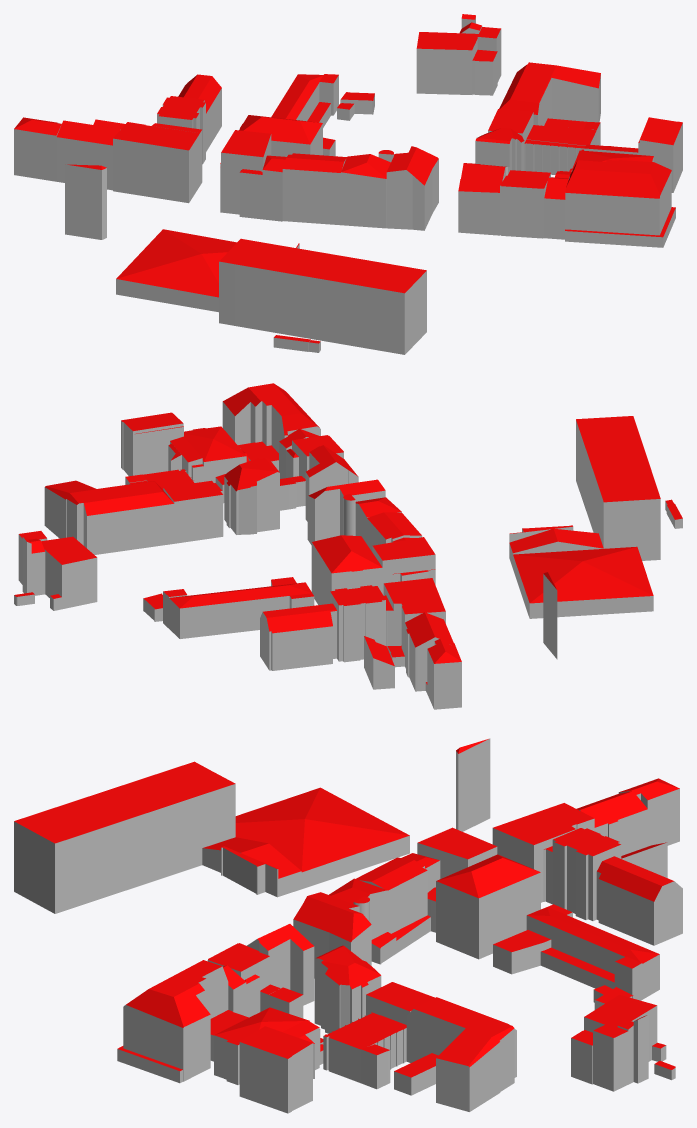
The picture shows the model from 3 angles, top to bottom: view 1: azimuth 30°, elevation 25°; view 2: azimuth 150°, elevation 25°; view 3: azimuth 270°, elevation 25°; orthographic projection. The views are drawn at different scales.
Size of the model in its own units: 222 by 28.02 by 203.
